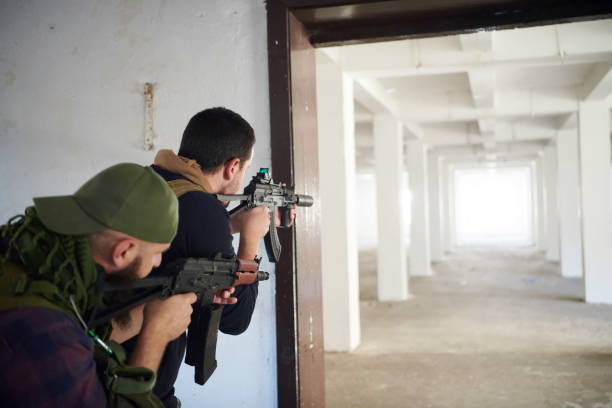gun: (102, 254, 271, 385), (216, 165, 314, 262)
